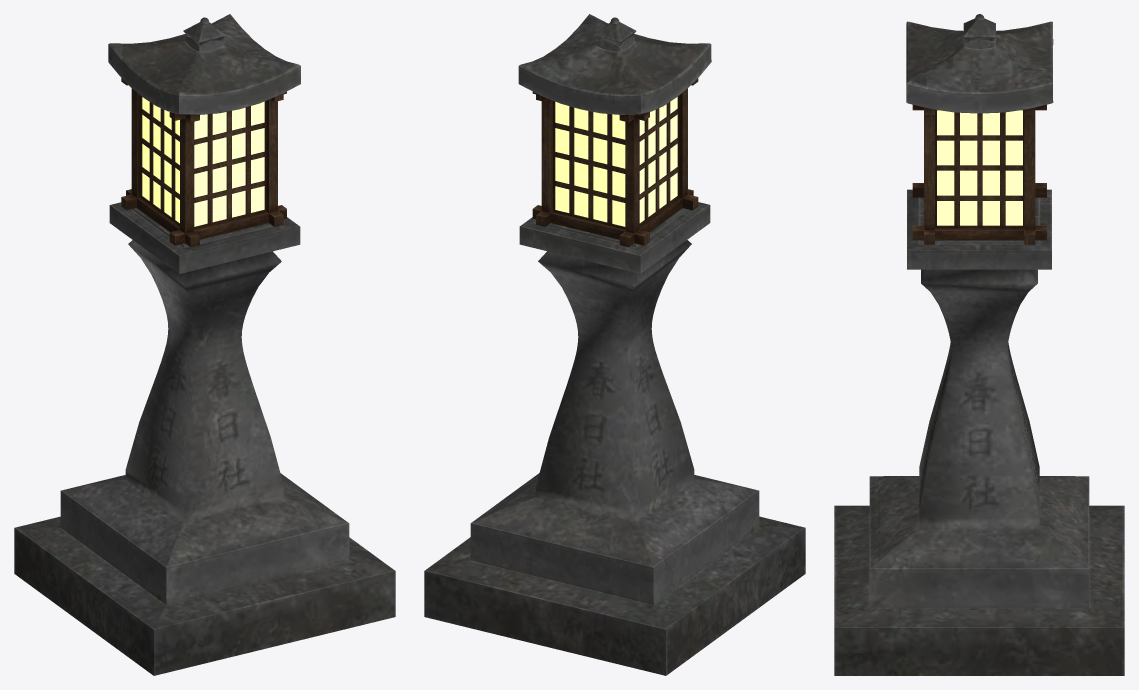
Rendered from den_kasuga.glb.
3 views of the same model, side by side, from view 1: azimuth 30°, elevation 25°; view 2: azimuth 150°, elevation 25°; view 3: azimuth 270°, elevation 25° (orthographic). The views are drawn at different scales.
Visible parts, largest first — view 1: Cube.024, Cube.026, Cube.025; view 2: Cube.024, Cube.026, Cube.025; view 3: Cube.024, Cube.026, Cube.025.
Boxes of the visible parts, <box> form: Cube.024: <box>14,14,395,675</box>; Cube.026: <box>140,95,266,229</box>; Cube.025: <box>121,78,286,247</box>; Cube.024: <box>424,14,805,675</box>; Cube.026: <box>553,95,679,229</box>; Cube.025: <box>532,78,698,247</box>; Cube.024: <box>834,14,1124,675</box>; Cube.026: <box>935,110,1024,228</box>; Cube.025: <box>912,104,1046,244</box>.
Size of the model in its own units: 64.02 by 146 by 64.02.
Materials: 4 (3 with a texture image).
